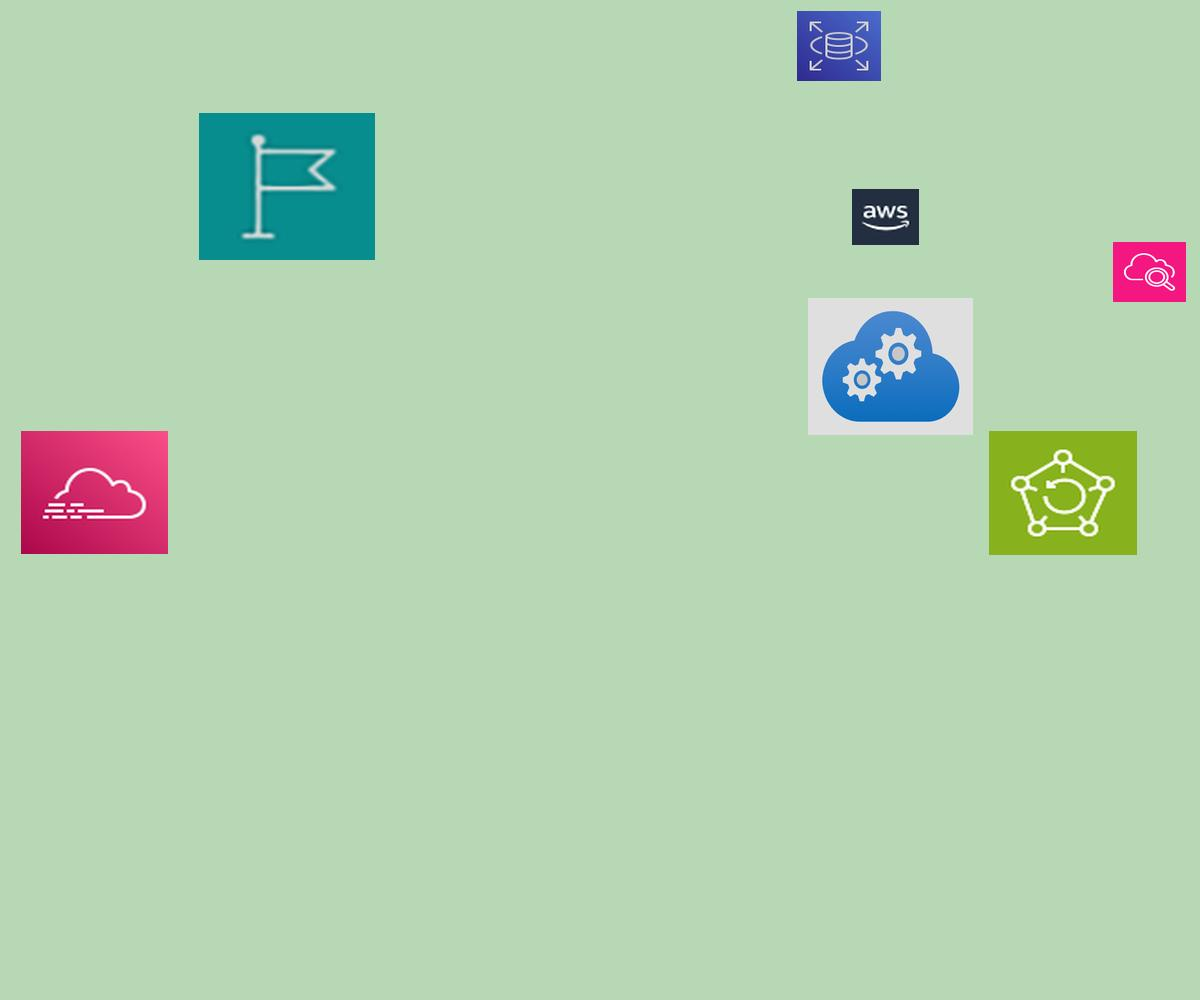AWS-Backup: (989, 431, 1137, 555)
AWS-Cloud-logo: (852, 189, 919, 245)
AWS-CloudTrail: (21, 431, 168, 554)
AWS-CloudWatch: (1113, 242, 1186, 302)
AWS-RDS: (797, 11, 881, 81)
AWS-Region: (199, 113, 375, 260)
Azure_cloud_services: (808, 298, 973, 435)
